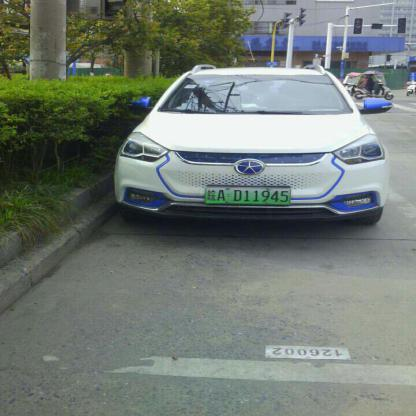lp: (206, 184, 291, 206)
